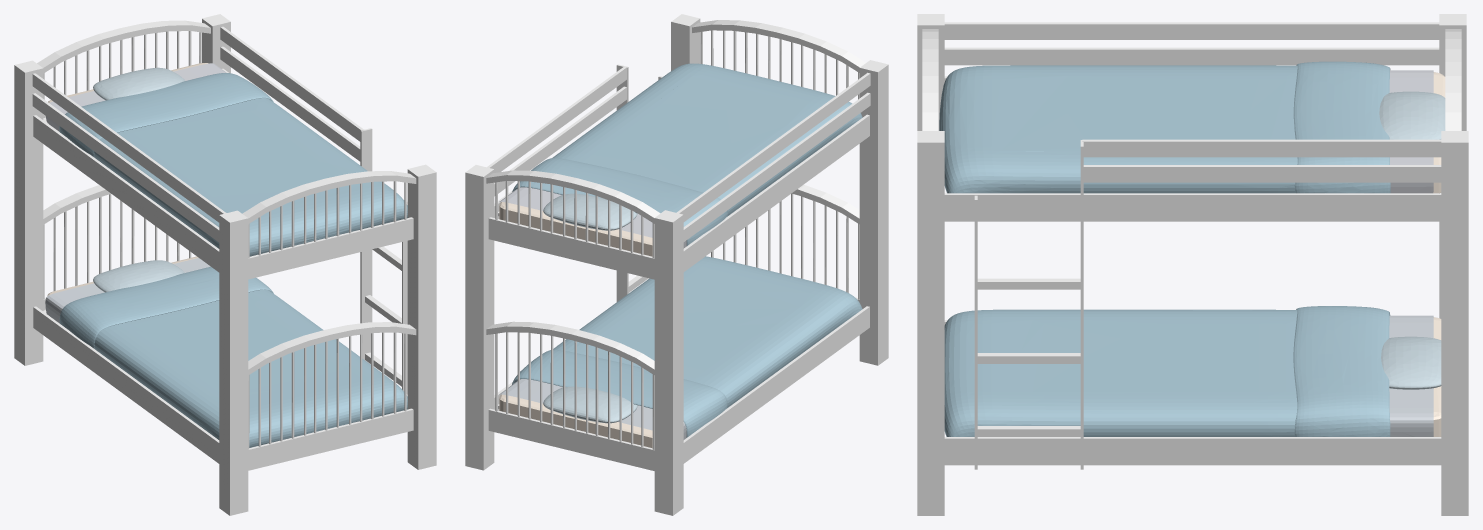
File: by-bunkbed.glb
3 renders of one model, left to right at view 1: azimuth 30°, elevation 25°; view 2: azimuth 150°, elevation 25°; view 3: azimuth 270°, elevation 25°, orthographic. The views are drawn at different scales.
Visible parts, largest first — view 1: Plane.002, Plane.000, Cube.001_Cube.002, Cube_Cube.001, Cube.002_Cube.003, Cube.005_Cube.006, Cube.010_Cube.011, Cube.006_Cube.007, Cube.009_Cube.010, Cube.053_Cube.056, Cube.054_Cube.057, Cube.017_Cube.019 (+12 smaller); view 2: Plane.002, Plane.000, Cube.002_Cube.003, Cube.003_Cube.004, Cube.001_Cube.002, Cube.005_Cube.006, Cube.010_Cube.011, Cube.008_Cube.009, Cube.007_Cube.008, Cube.053_Cube.056, Cube.054_Cube.057, Cube.056_Cube.059 (+13 smaller); view 3: Plane.002, Plane.000, Cube.011_Cube.012, Cube.004_Cube.005, Cube.003_Cube.004, Cube_Cube.001, Cube.054_Cube.057, Cube.053_Cube.056, Cube.017_Cube.019, Cube.016_Cube.018, Plane.004_Plane.005, Cube.057_Cube.037 (+12 smaller).
Boxes of the visible parts, left/top/right/bottom form: Plane.002: left=59, top=266, right=407, bottom=447; Plane.000: left=59, top=73, right=407, bottom=256; Cube.001_Cube.002: left=219, top=210, right=248, bottom=515; Cube_Cube.001: left=407, top=164, right=436, bottom=469; Cube.002_Cube.003: left=14, top=60, right=43, bottom=365; Cube.005_Cube.006: left=33, top=306, right=219, bottom=463; Cube.010_Cube.011: left=33, top=115, right=219, bottom=272; Cube.006_Cube.007: left=248, top=408, right=413, bottom=470; Cube.009_Cube.010: left=248, top=217, right=413, bottom=279; Cube.053_Cube.056: left=32, top=73, right=226, bottom=222; Cube.054_Cube.057: left=32, top=93, right=219, bottom=242; Cube.017_Cube.019: left=220, top=26, right=363, bottom=141; Plane.002: left=512, top=256, right=862, bottom=437; Plane.000: left=512, top=63, right=862, bottom=245; Cube.002_Cube.003: left=654, top=210, right=683, bottom=515; Cube.003_Cube.004: left=465, top=165, right=494, bottom=470; Cube.001_Cube.002: left=859, top=60, right=888, bottom=365; Cube.005_Cube.006: left=683, top=306, right=869, bottom=463; Cube.010_Cube.011: left=683, top=114, right=869, bottom=271; Cube.008_Cube.009: left=488, top=217, right=654, bottom=279; Cube.007_Cube.008: left=488, top=408, right=654, bottom=470; Cube.053_Cube.056: left=676, top=72, right=870, bottom=221; Cube.054_Cube.057: left=683, top=92, right=870, bottom=241; Cube.056_Cube.059: left=499, top=202, right=652, bottom=256; Plane.002: left=944, top=306, right=1390, bottom=436; Plane.000: left=939, top=61, right=1390, bottom=193; Cube.011_Cube.012: left=944, top=193, right=1441, bottom=221; Cube.004_Cube.005: left=944, top=437, right=1441, bottom=465; Cube.003_Cube.004: left=1441, top=131, right=1468, bottom=515; Cube_Cube.001: left=917, top=131, right=944, bottom=515; Cube.054_Cube.057: left=944, top=47, right=1439, bottom=65; Cube.053_Cube.056: left=944, top=22, right=1439, bottom=39; Cube.017_Cube.019: left=1082, top=139, right=1441, bottom=157; Cube.016_Cube.018: left=1083, top=165, right=1441, bottom=182; Plane.004_Plane.005: left=1389, top=315, right=1433, bottom=436; Cube.057_Cube.037: left=1381, top=336, right=1441, bottom=389.
Bounding box in the file's own units: 1.13 × 1.6 × 2.05.
